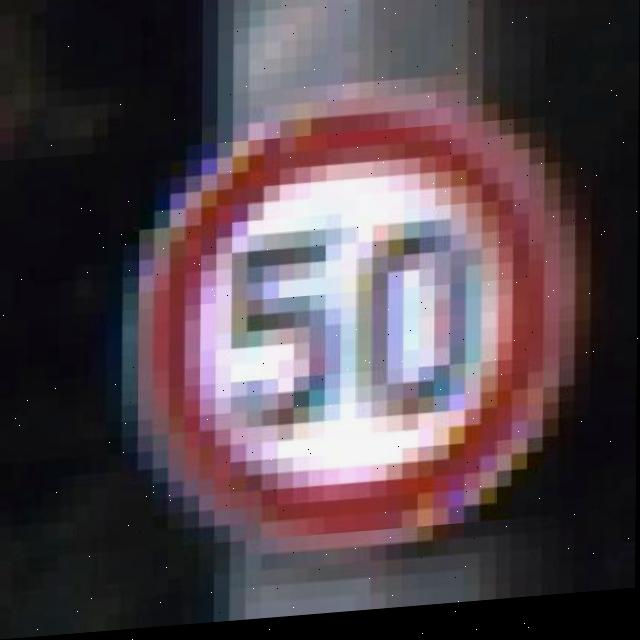Speed limit 50: (124, 83, 588, 571)
